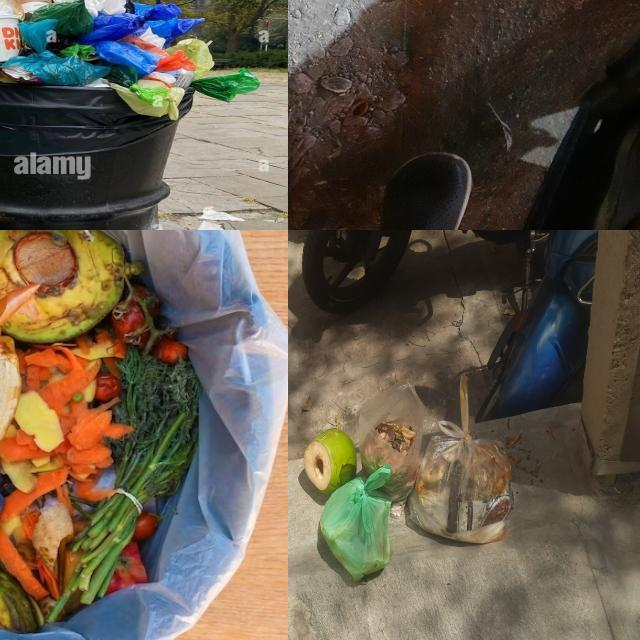Disposable: (0, 11, 21, 62)
Garbage: (0, 230, 201, 633), (288, 371, 529, 609)
Plastic_Bag: (409, 374, 513, 543), (320, 464, 391, 581), (359, 383, 425, 502), (2, 50, 109, 86), (134, 3, 203, 44), (94, 41, 161, 77), (190, 68, 259, 102), (32, 0, 94, 36), (77, 13, 144, 44), (17, 19, 57, 52), (119, 34, 169, 57), (155, 50, 196, 71), (105, 64, 138, 88), (59, 42, 98, 61)
